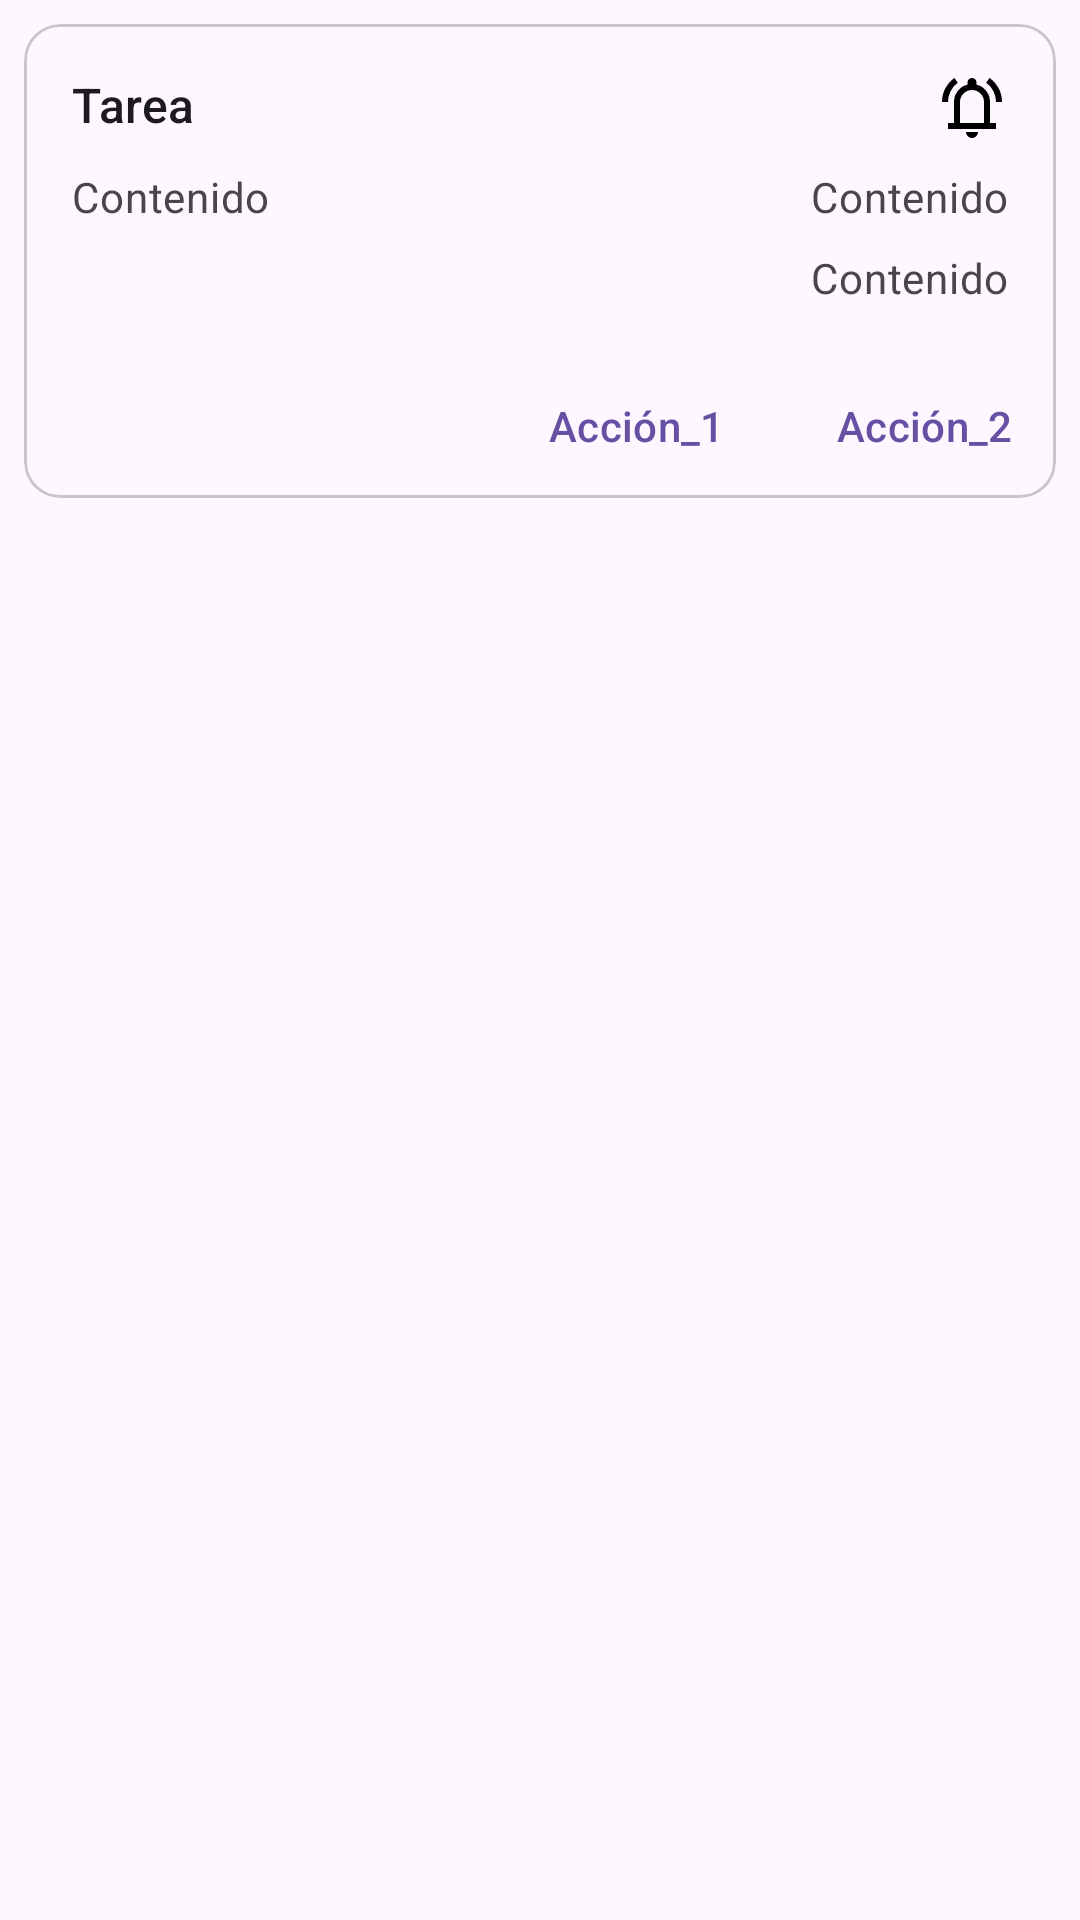

Screen size 1080x1920. Icon name, then its box in pixels as (x1, y1, x2, y2):
notification: (942, 78, 1002, 138)
